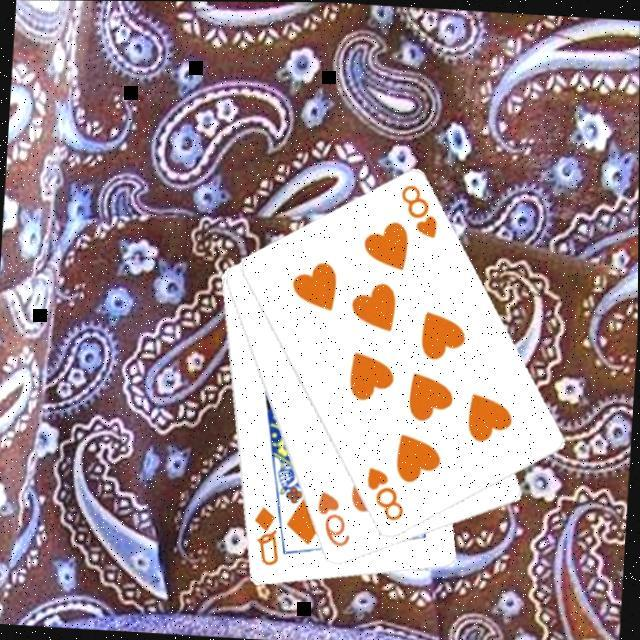6H: (312, 489, 354, 552)
8H: (394, 182, 442, 244), (361, 465, 408, 527)
QD: (248, 504, 284, 572)
